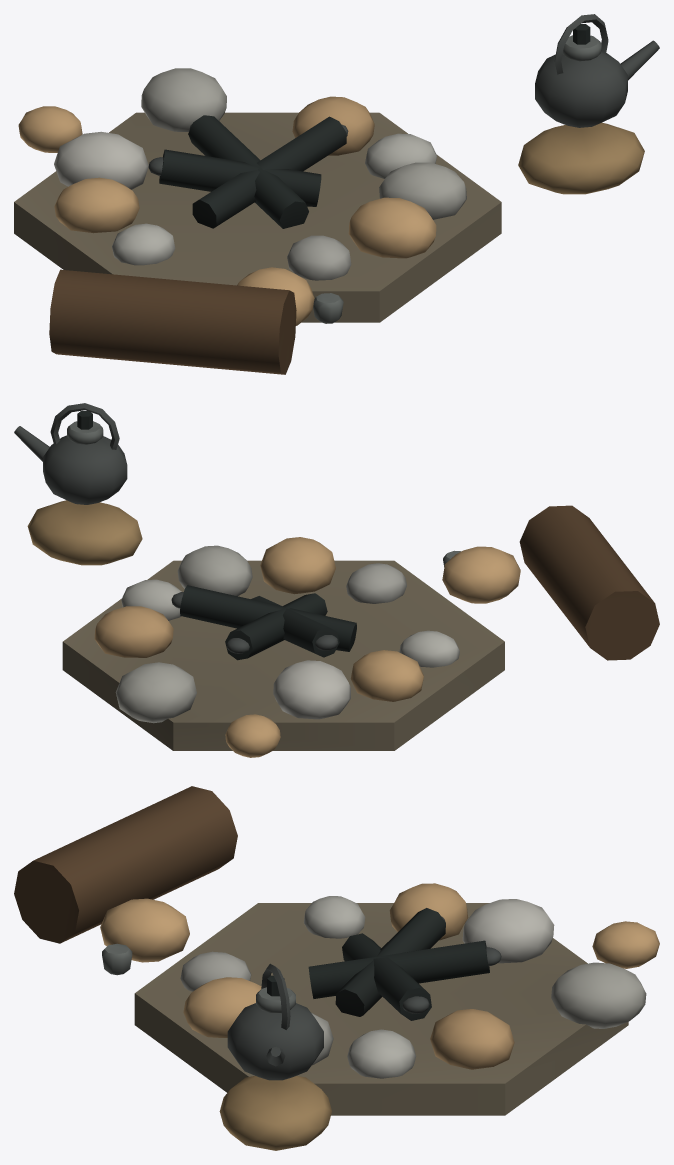
The model's file is cold_campfire_b.glb.
3 renders of one model, top to bottom at view 1: azimuth 30°, elevation 25°; view 2: azimuth 150°, elevation 25°; view 3: azimuth 270°, elevation 25°, orthographic. The views are drawn at different scales.
Parts seen in each view (by area): view 1: Surface; view 2: Surface; view 3: Surface.
Boxes of the visible parts, x1,y1,x2,y2 form: Surface: (14, 14, 659, 374); Surface: (14, 403, 659, 757); Surface: (14, 786, 659, 1150).
Size of the model in its own units: 6.57 by 1.81 by 5.49.
